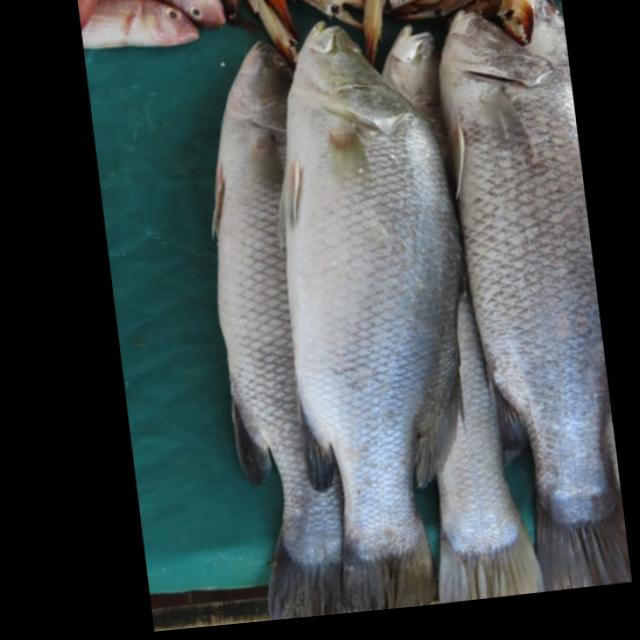Seabass: (250, 6, 505, 616), (432, 0, 631, 597), (184, 35, 367, 623)
